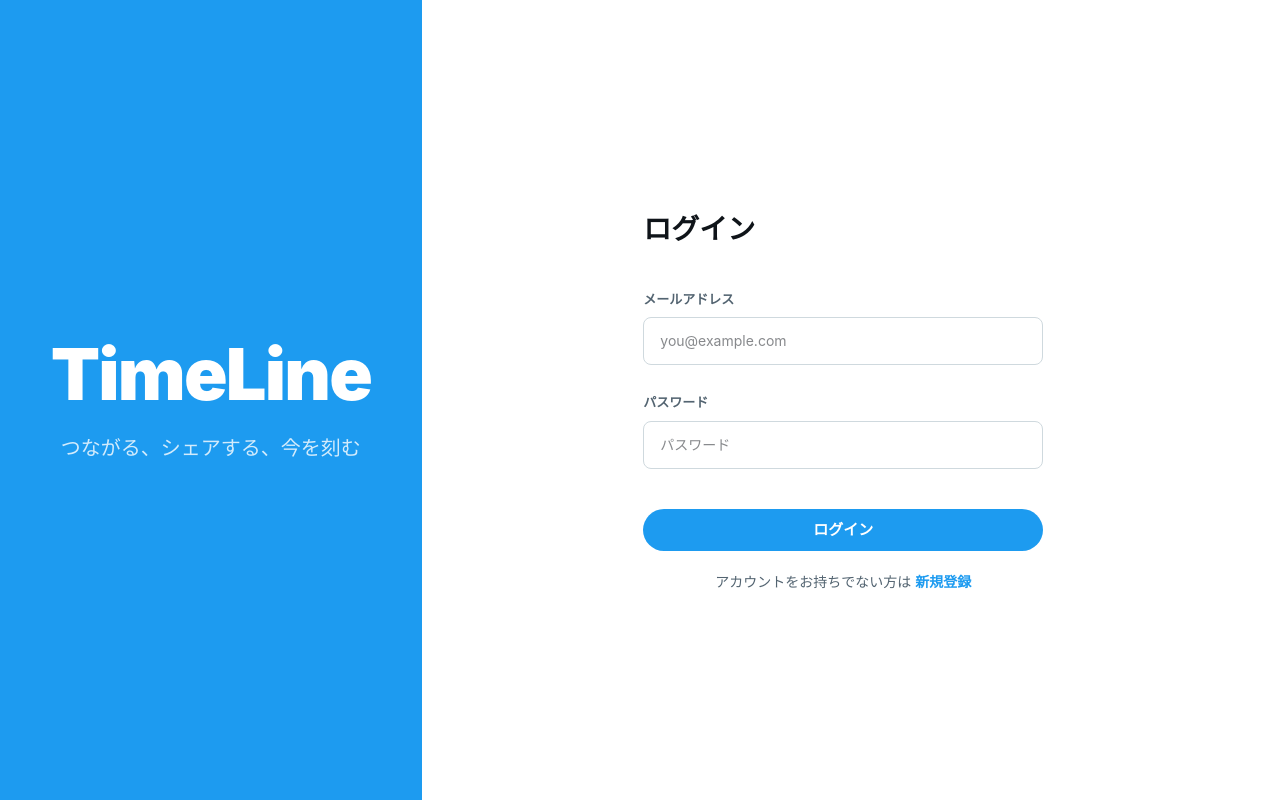
Test: LoginPage › メールとパスワードが空のときバリデーションエラーが表示される
Expected: the field labelled "メールアドレス" is shown, [643,317,1043,365]
Click the button "ログイン". click: (843, 530)
box: [643,509,1043,551]
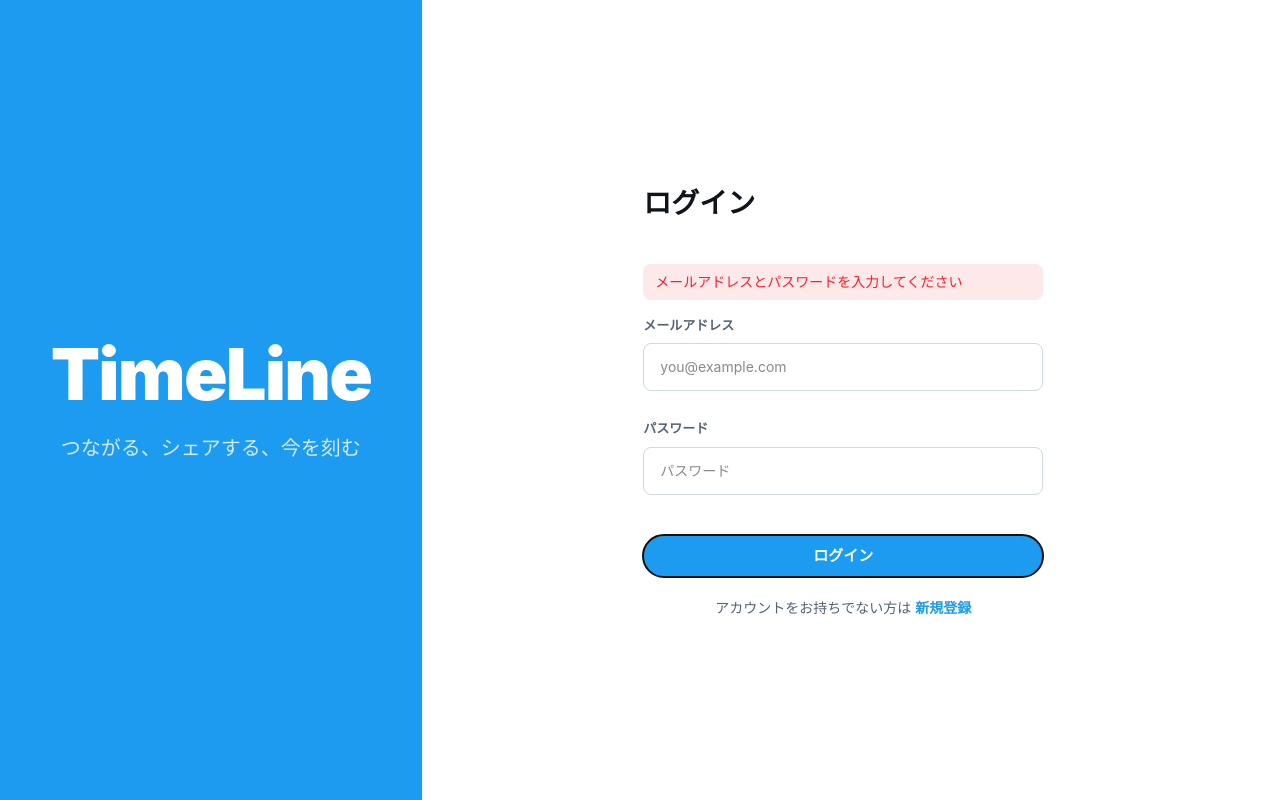
Expected: the text "メールアドレスとパスワードを入力してください" is shown, [643,264,1043,300]
